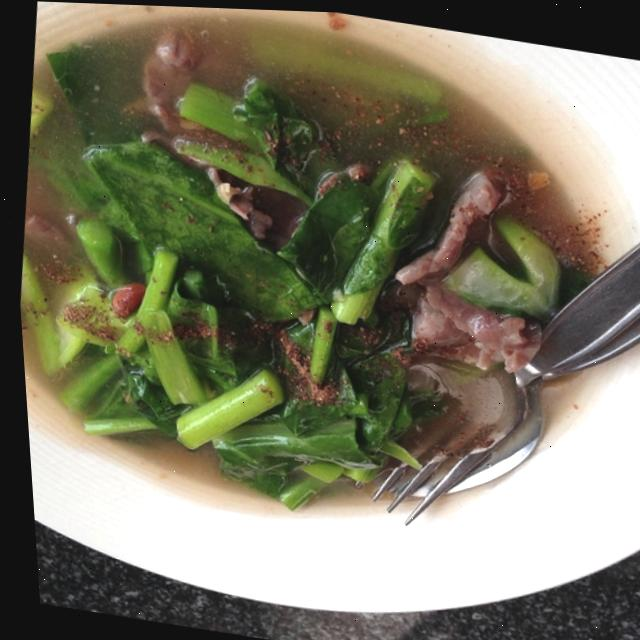面条主食: (0, 0, 609, 574)
